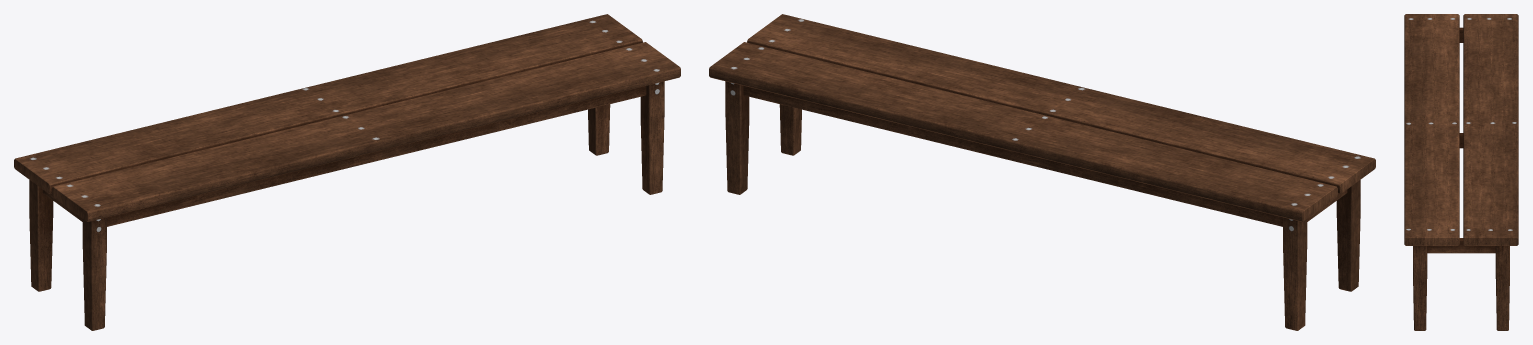
File: wooden_bench_low-poly.glb
The picture shows the model from 3 angles, left to right: view 1: azimuth 30°, elevation 25°; view 2: azimuth 150°, elevation 25°; view 3: azimuth 270°, elevation 25°; orthographic projection. The views are drawn at different scales.
Parts seen in each view (by area): view 1: bench; view 2: bench; view 3: bench.
Part boxes in pixels (x1=…): bench: x1=14, y1=14, x2=680, y2=330; bench: x1=709, y1=14, x2=1375, y2=330; bench: x1=1404, y1=14, x2=1518, y2=330.
Size of the model in its own units: 4 by 0.8164 by 0.8653.
Materials: 1 (1 with a texture image).
